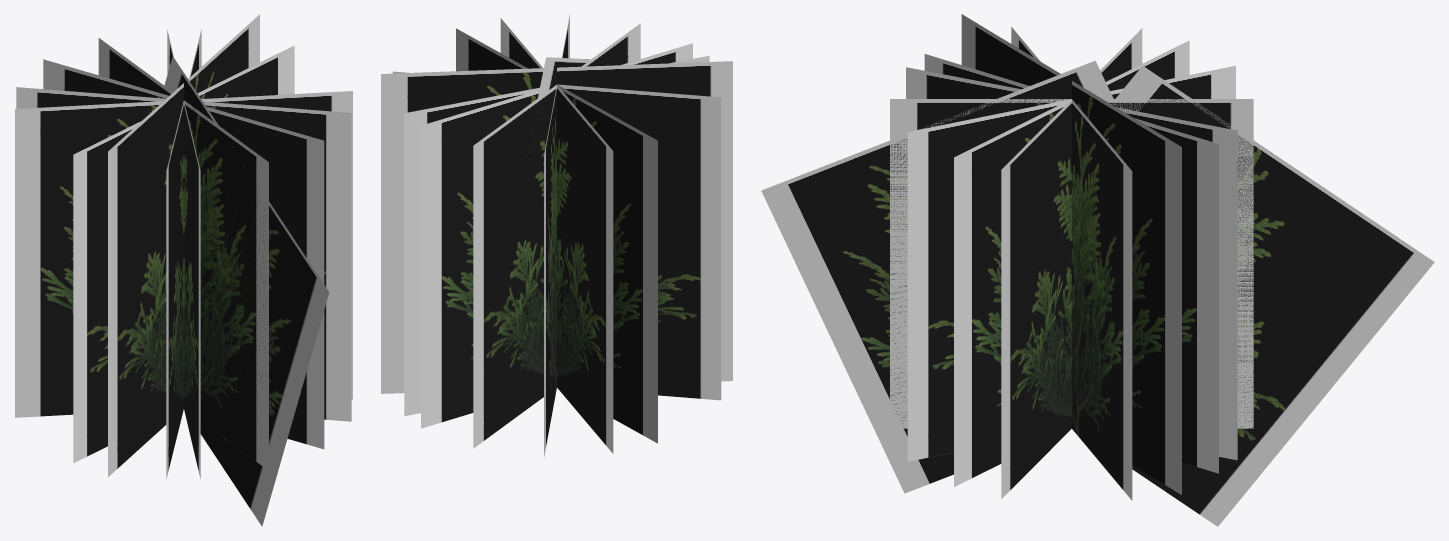
File: bush.fbx
3 renders of one model, left to right at view 1: azimuth 30°, elevation 25°; view 2: azimuth 150°, elevation 25°; view 3: azimuth 270°, elevation 25°, orthographic. The views are drawn at different scales.
Visible parts, largest first — view 1: polySurface1; view 2: polySurface1; view 3: polySurface1.
Part boxes in pixels (x1,y1,x2,y2): polySurface1: (15, 14, 352, 526); polySurface1: (381, 14, 732, 457); polySurface1: (761, 14, 1434, 526).
Size of the model in its own units: 2.84 by 4.26 by 5.57.
